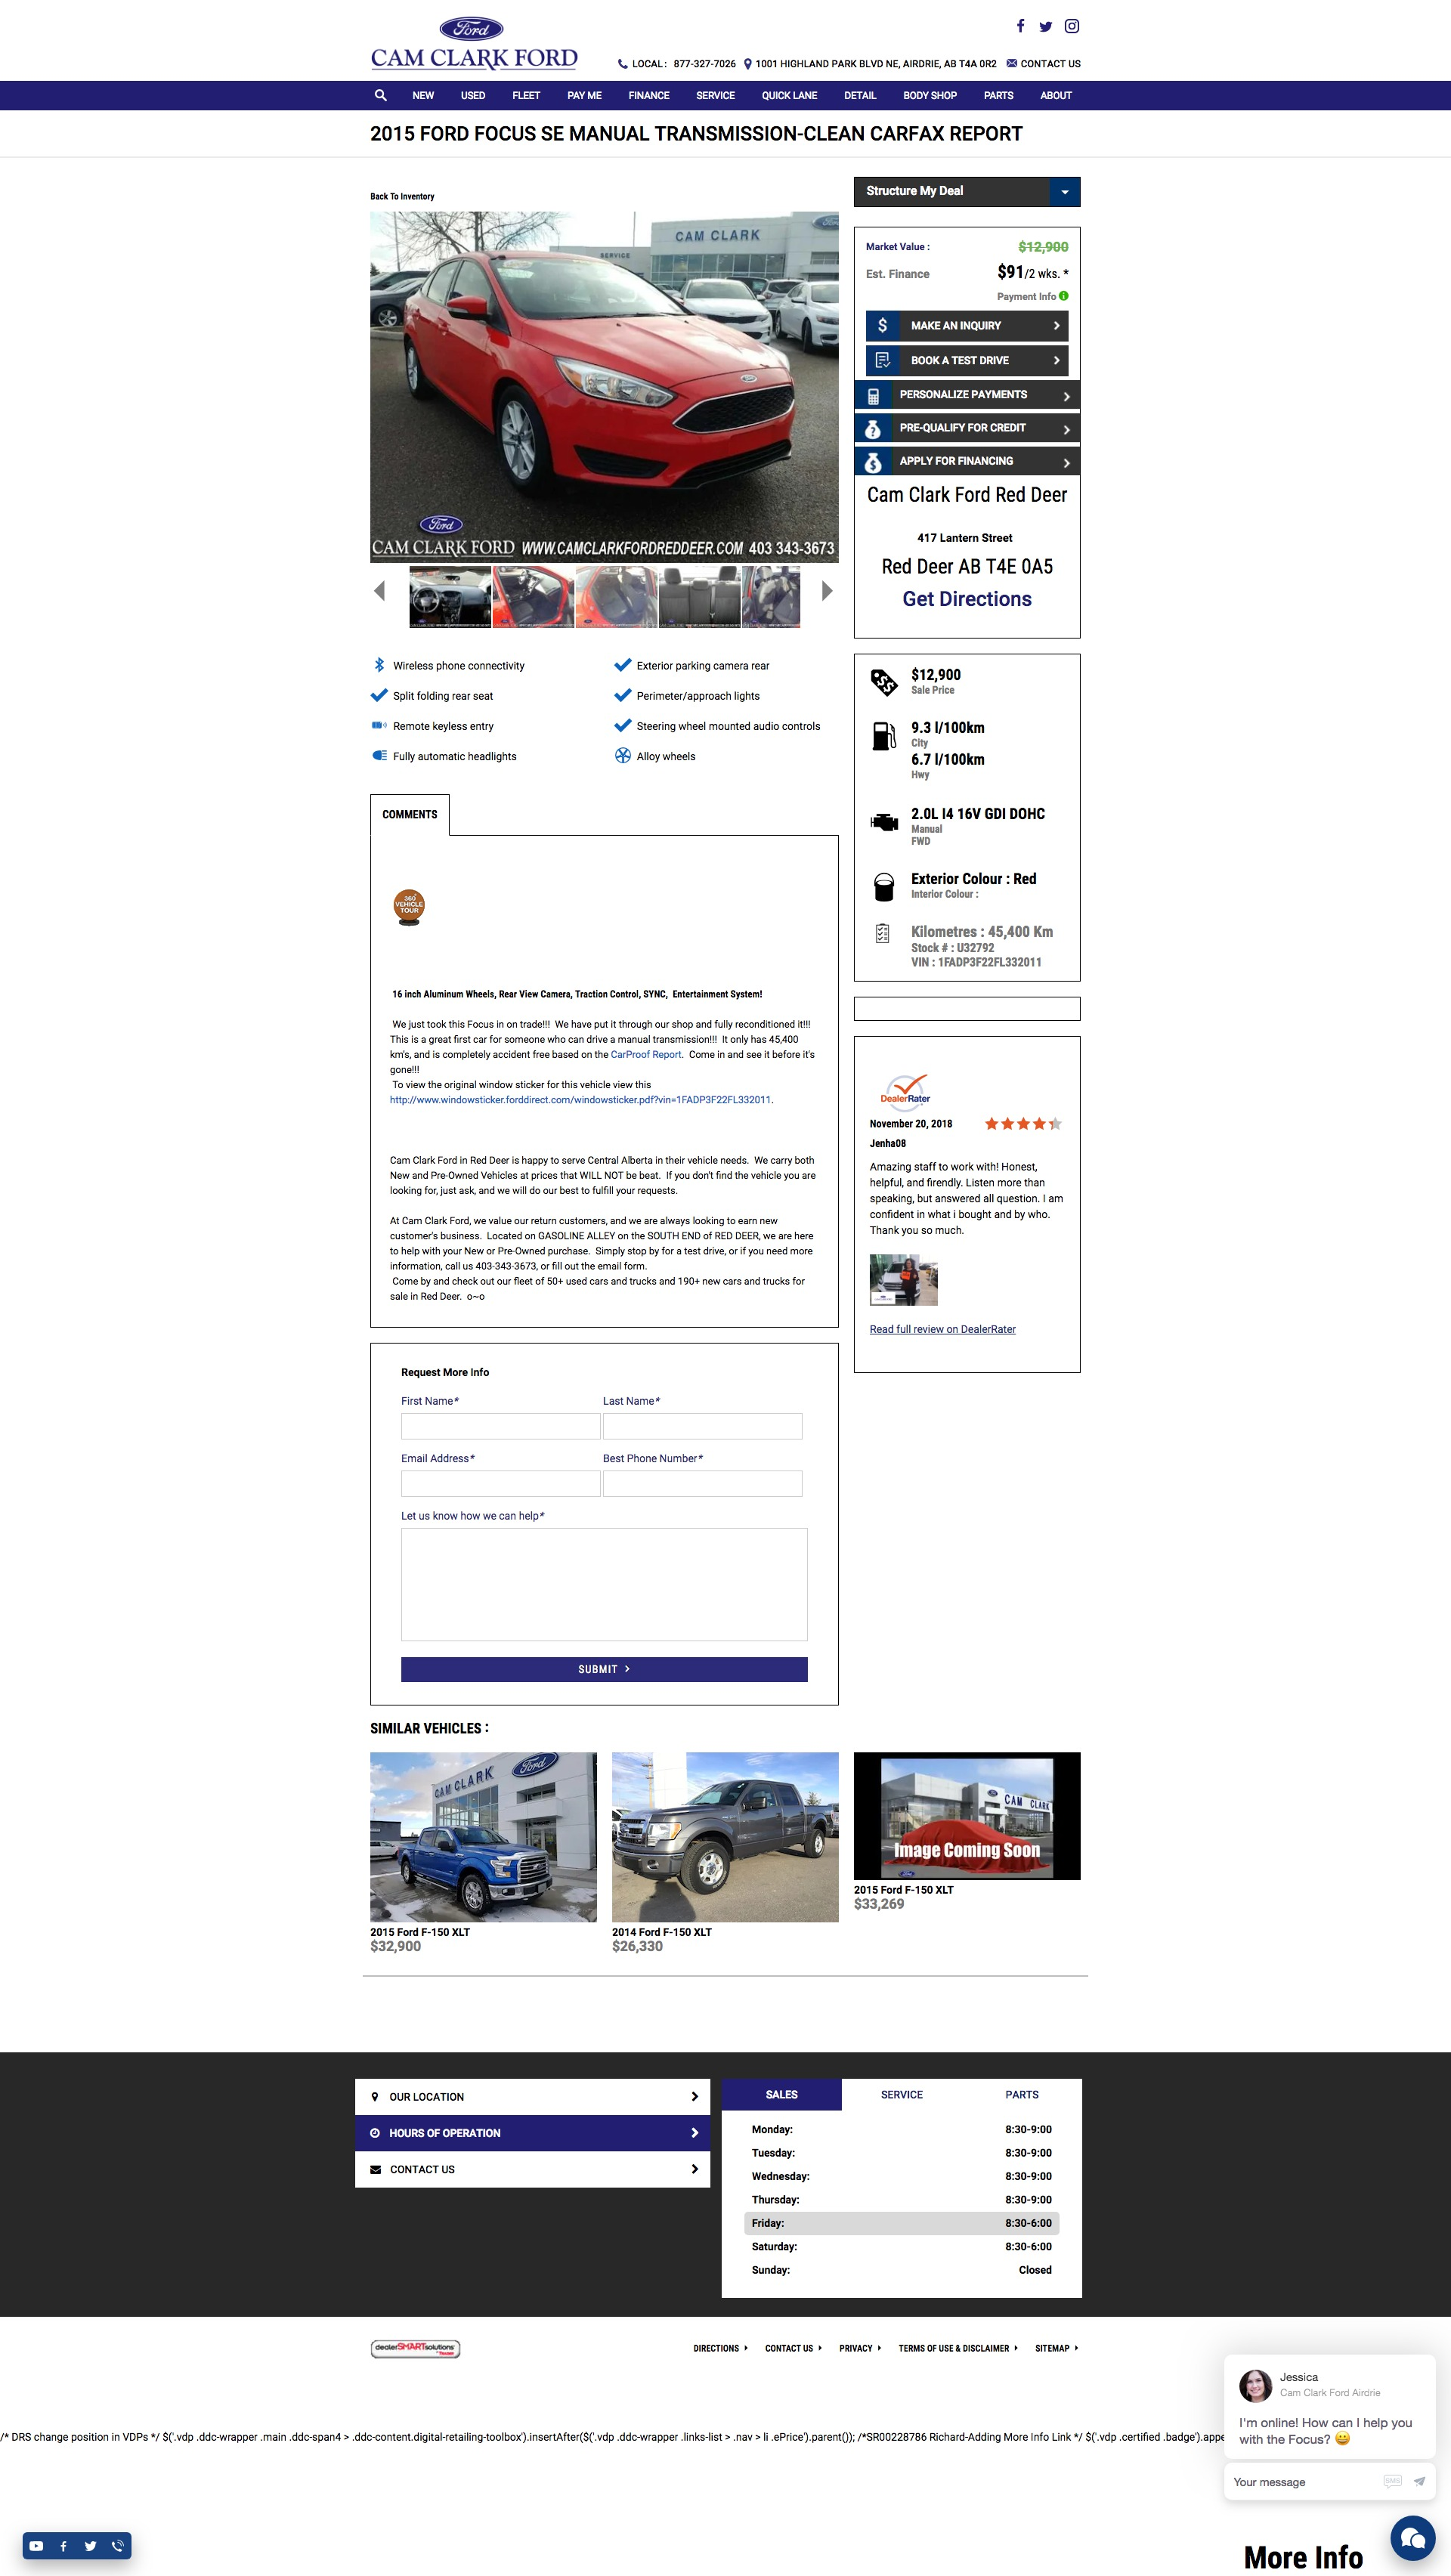car: (821, 580, 833, 602)
